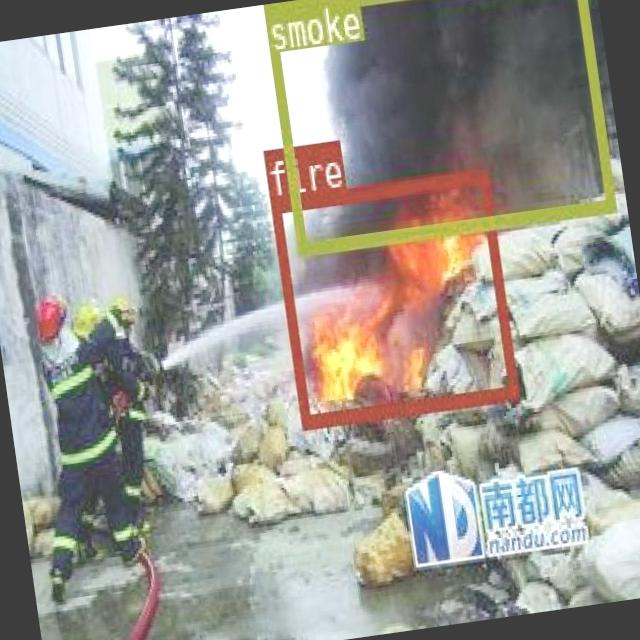fire: (268, 166, 517, 426)
smoke: (263, 0, 613, 251)
